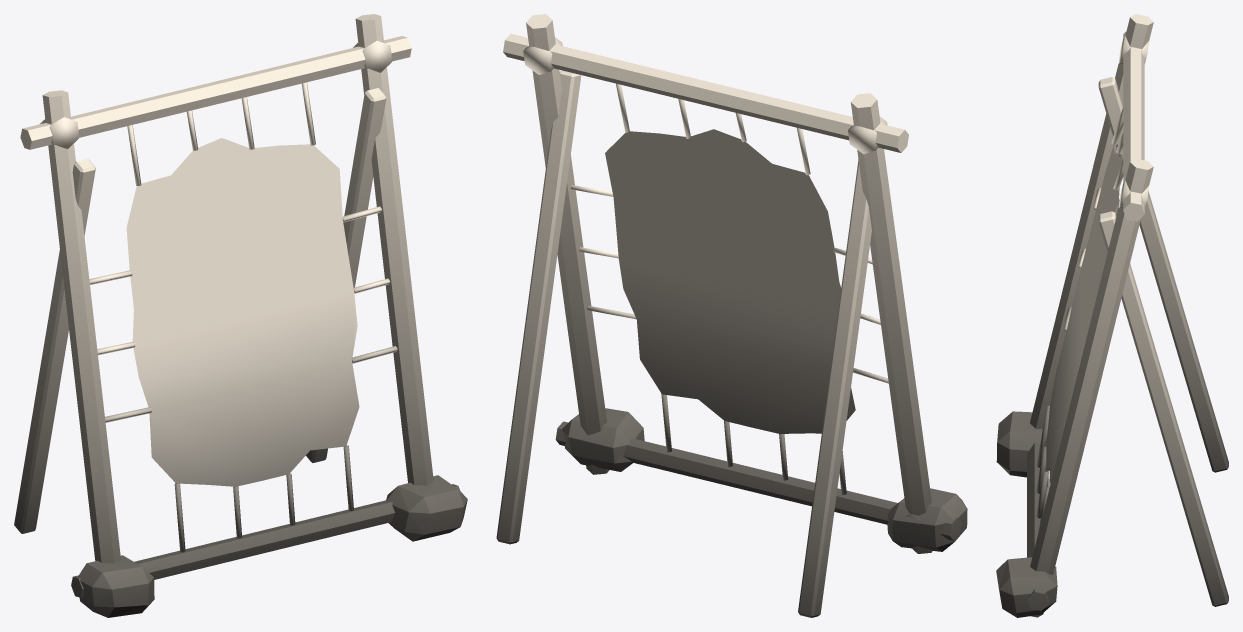
The model's file is SM_VK_Prop_HideFrame.fbx.
The picture shows the model from 3 angles, left to right: view 1: azimuth 30°, elevation 25°; view 2: azimuth 150°, elevation 25°; view 3: azimuth 270°, elevation 25°; orthographic projection. The views are drawn at different scales.
Parts seen in each view (by area): view 1: SM_VK_Prop_HideFrame.001; view 2: SM_VK_Prop_HideFrame.001; view 3: SM_VK_Prop_HideFrame.001.
Boxes of the visible parts, x1,y1,x2,y2 form: SM_VK_Prop_HideFrame.001: [14, 14, 467, 617]; SM_VK_Prop_HideFrame.001: [496, 14, 967, 617]; SM_VK_Prop_HideFrame.001: [996, 14, 1228, 617].
Bounding box in the file's own units: 1.7 × 2.04 × 0.952.
